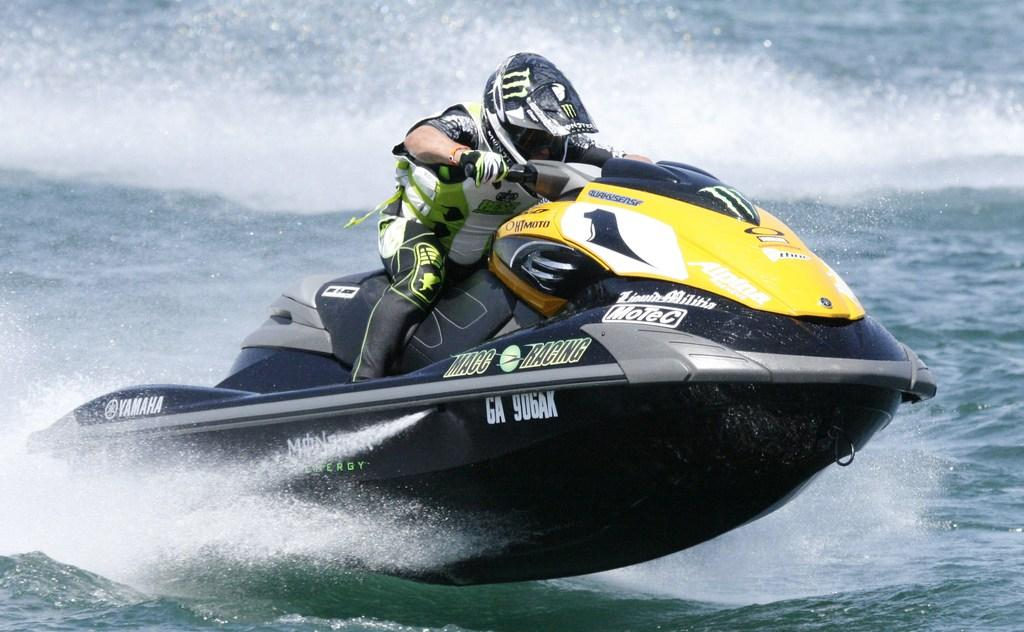helmet: (479, 52, 600, 193)
